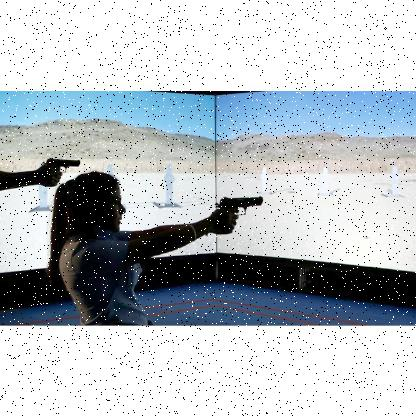gun: (214, 194, 263, 234), (40, 156, 80, 184)
